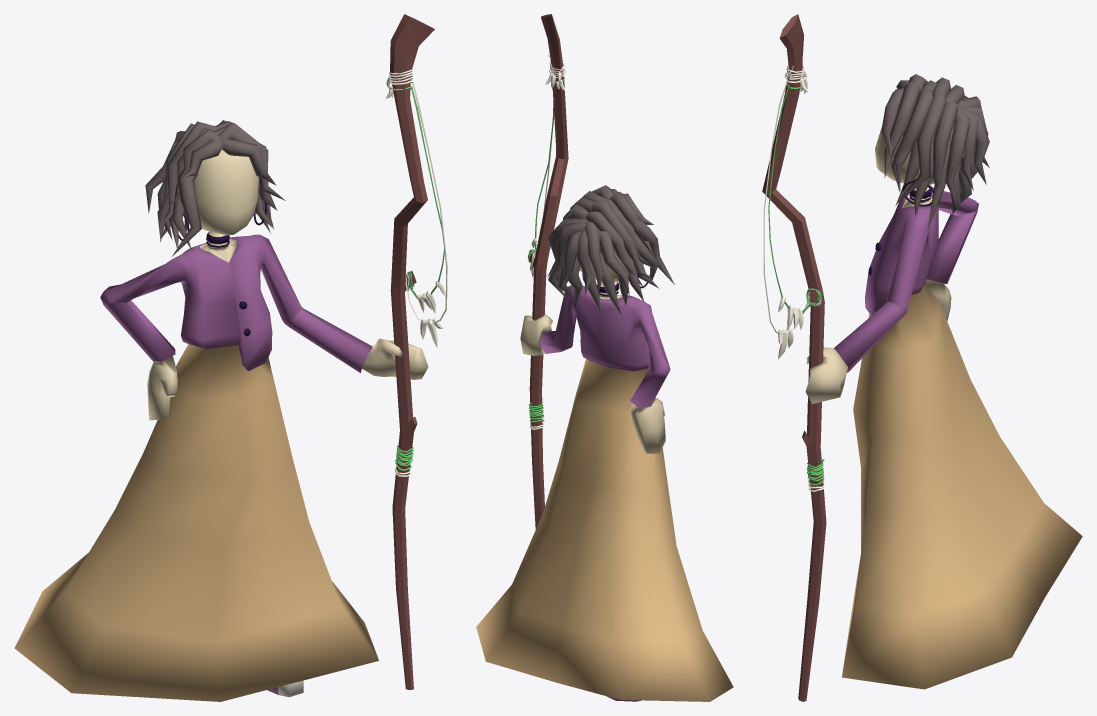
The model's file is wiedzma.fbx.
3 views of the same model, side by side, from view 1: azimuth 30°, elevation 25°; view 2: azimuth 150°, elevation 25°; view 3: azimuth 270°, elevation 25° (orthographic). The views are drawn at different scales.
Parts seen in each view (by area): view 1: wlosy.003; view 2: wlosy.003; view 3: wlosy.003.
Part boxes in pixels (x1,y1,x2,y2): wlosy.003: (14,14,447,701); wlosy.003: (476,14,733,701); wlosy.003: (762,14,1082,701).
Bounding box in the file's own units: 126 × 258 × 110.
